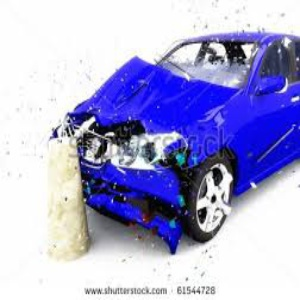bonnet: (96, 73, 212, 135)
bumper: (86, 174, 184, 248)
front_windshield_glass: (174, 44, 254, 87)
